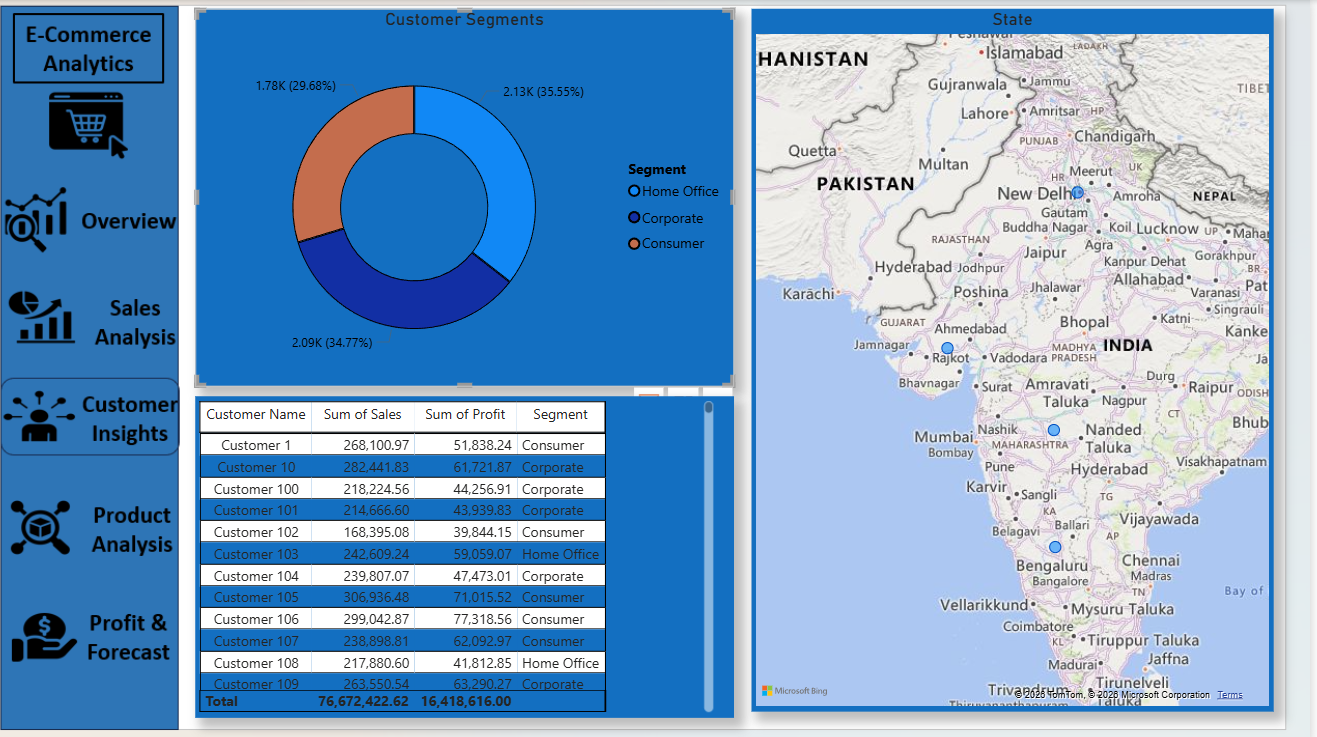

Layout of this report page (visuals, bound fields, positions):
{"tool":"powerbi","page":{"name":"Customer Insights","canvas":[1280,720],"ordinal":2},"visuals":[{"type":"actionButton","box":[18.1,261.8,171.3,77.2],"z":0},{"type":"actionButton","box":[18.1,359.5,174.9,83.2],"z":1000},{"type":"actionButton","box":[17.8,465.2,175.6,72.7],"z":2000},{"type":"actionButton","box":[17.8,570.8,175.6,75.5],"z":3000},{"type":"actionButton","box":[13.3,173.7,176.1,78.4],"z":4000},{"type":"donutChart","title":"Customer Segments","fields":{"Category":["Orders_Data.Segment"],"Y":["CountNonNull(Orders_Data.Customer Name)"]},"box":[203.9,18.1,520,354.7],"z":5000},{"type":"map","fields":{"Category":["Orders_Data.State"]},"box":[740.8,8.4,504.3,678],"z":6000},{"type":"tableEx","fields":{"Values":["Orders_Data.Customer Name","Sum(Orders_Data.Sales)","Sum(Orders_Data.Profit)","Orders_Data.Segment"]},"box":[203.9,382.4,520,310.1],"z":7000}]}

Visuals, with their boxes in screenshot pixels (x1, y1, x2, y2), scaled from the page's 1280x720 canvas onto the 1317x737 screenshot:
actionButton: locate(19, 268, 195, 347)
actionButton: locate(19, 368, 199, 453)
actionButton: locate(18, 476, 199, 551)
actionButton: locate(18, 584, 199, 662)
actionButton: locate(14, 178, 195, 258)
"Customer Segments" donutChart: locate(210, 19, 745, 382)
map - Orders_Data.State: locate(762, 9, 1281, 703)
tableEx - Orders_Data.Customer Name x Sum(Orders_Data.Sales): locate(210, 391, 745, 709)
